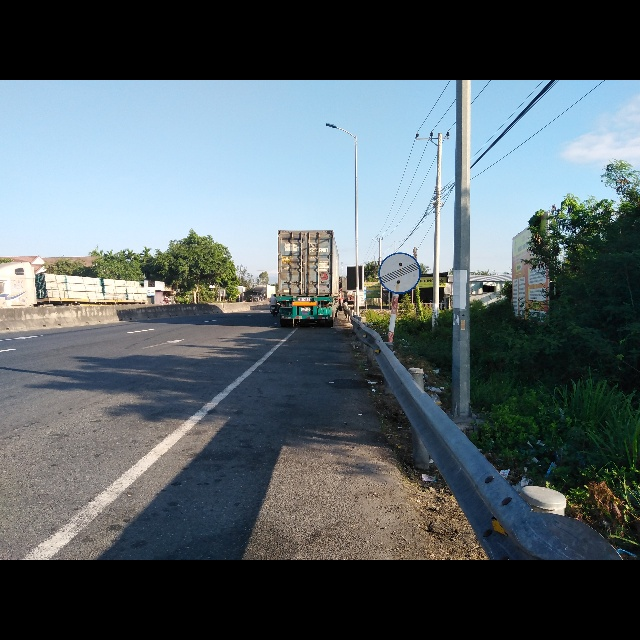Hết tất cả các lệnh cấm: (379, 251, 422, 293)
